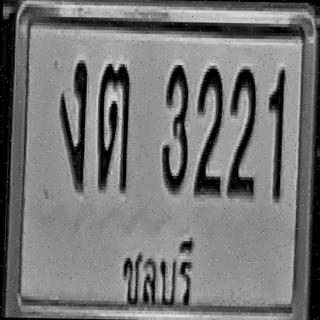A07: (58, 57, 87, 189)
A21: (96, 62, 130, 192)
N01: (267, 65, 285, 201)
N02: (193, 64, 224, 196), (226, 66, 256, 198)
N03: (161, 62, 189, 194)
P13: (120, 227, 196, 320)
